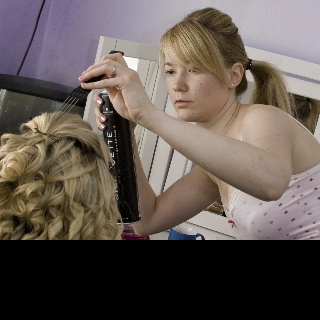without_mask: (161, 34, 228, 121)
